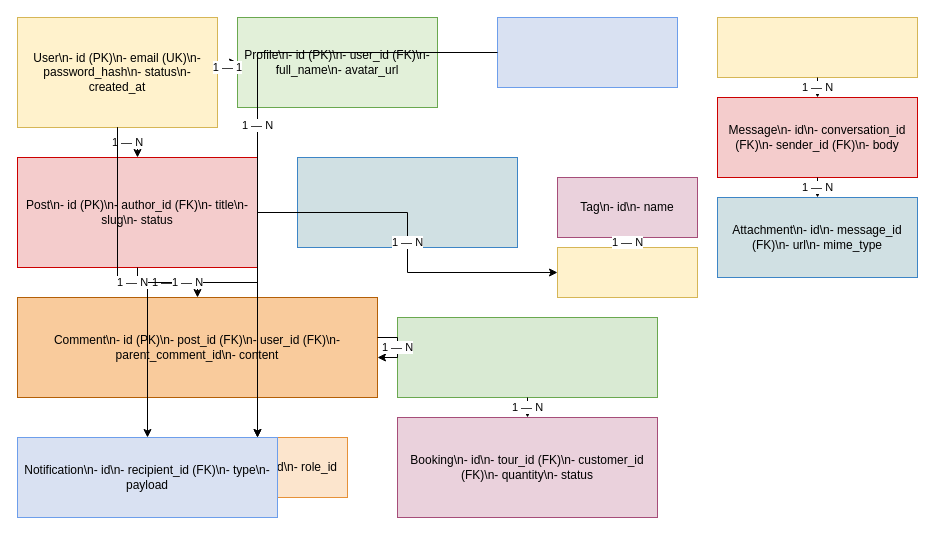
Image size: 935x535. Some labels were removed from this diagram. The centre of each missing label's shape, as x and y in pixels:
"Conversation\n- id\n- subject" belongs at (817,47).
"PostTag\n- post_id\n- tag_id" belongs at (627,272).
"Role\n- id (PK)\n- name" belongs at (587,52).
"Story\n- id (PK)\n- post_id (FK)\n- province\n- location" belongs at (407,202).
"Tour\n- id\n- seller_id (FK)\n- title\n- price" belongs at (527,357).
